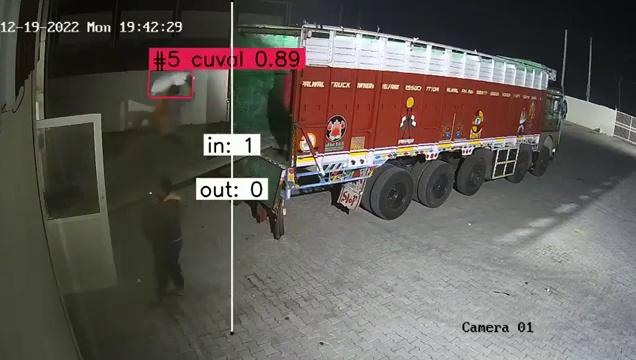karung: (151, 72, 189, 95)
